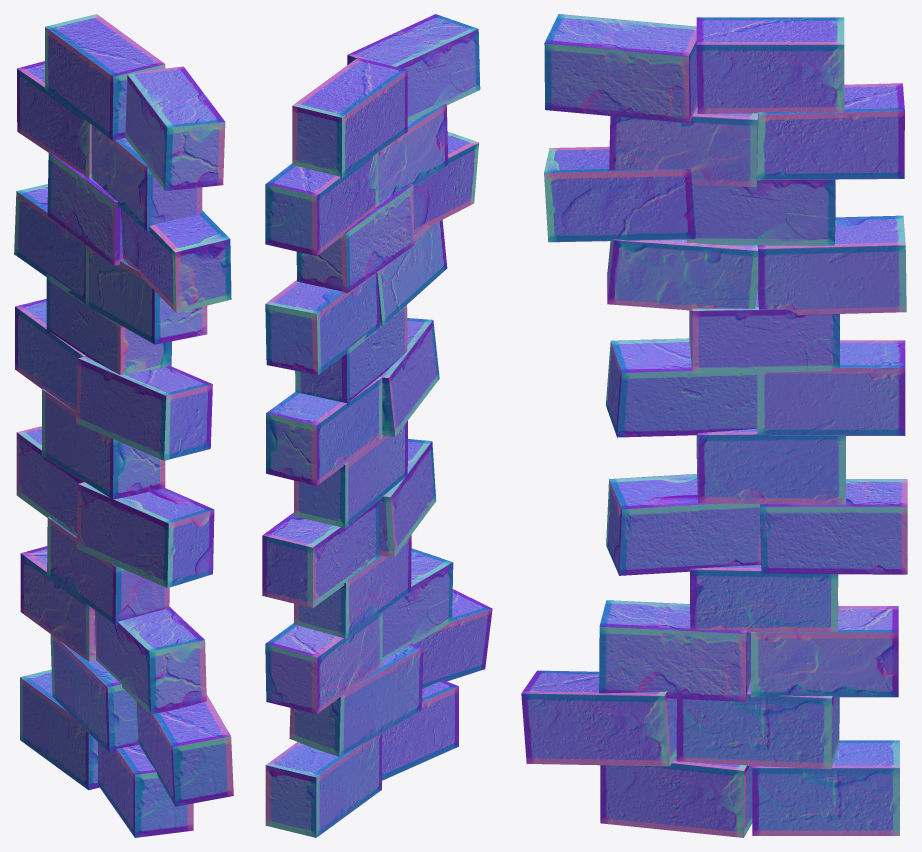
The model's file is Dungeon_WallBricksSmallFade1.fbx.
3 renders of one model, left to right at view 1: azimuth 30°, elevation 25°; view 2: azimuth 150°, elevation 25°; view 3: azimuth 270°, elevation 25°, orthographic. The views are drawn at different scales.
Visible parts, largest first — view 1: Dungeon_WallBricksSmallFade1; view 2: Dungeon_WallBricksSmallFade1; view 3: Dungeon_WallBricksSmallFade1.
Boxes of the visible parts, <box> form: Dungeon_WallBricksSmallFade1: <box>14,14,233,837</box>; Dungeon_WallBricksSmallFade1: <box>262,14,492,837</box>; Dungeon_WallBricksSmallFade1: <box>521,14,907,837</box>.
Bounding box in the file's own units: 0.4875 × 4 × 1.77.
